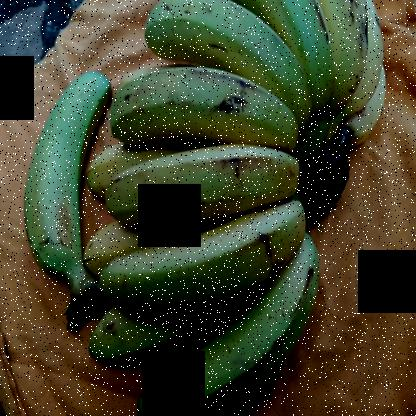ripe: (92, 184, 307, 334), (100, 130, 300, 226), (104, 57, 311, 147)
